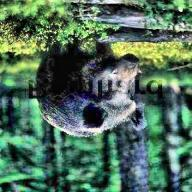boar: (22, 32, 148, 143)
